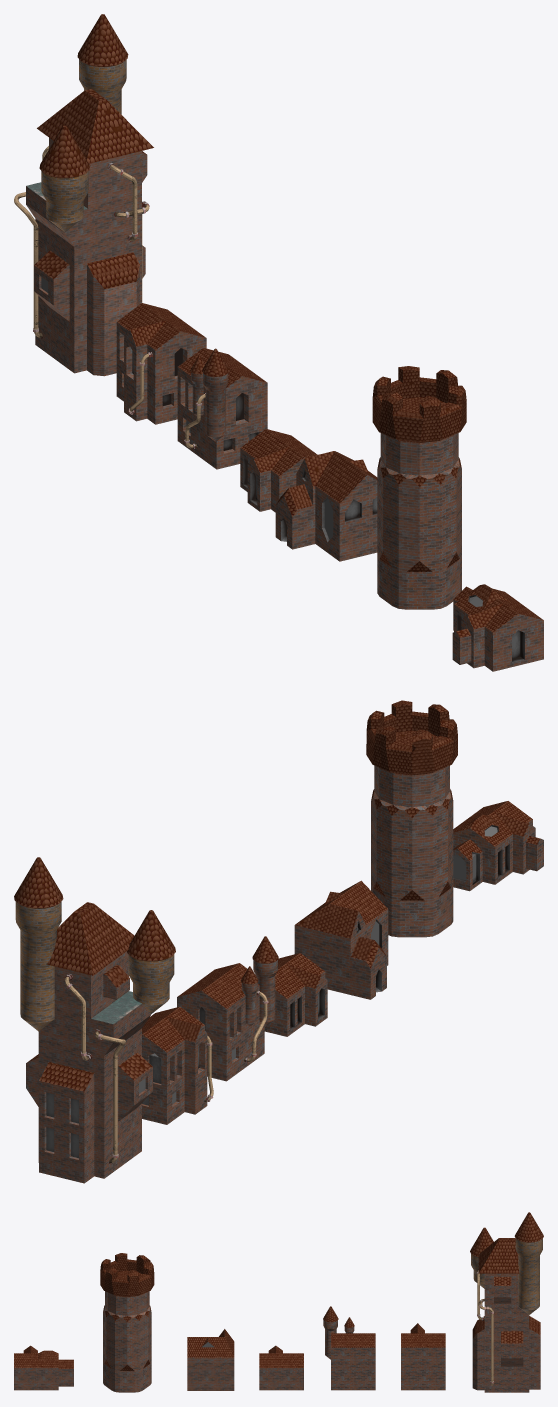
Rendered from housings.fbx.
3 renders of one model, top to bottom at view 1: azimuth 30°, elevation 25°; view 2: azimuth 150°, elevation 25°; view 3: azimuth 270°, elevation 25°, orthographic. The views are drawn at different scales.
Visible parts, largest first — view 1: Castle, Tower, House4, House2, House1, House5, House3; view 2: Castle, Tower, House2, House4, House1, House5, House3; view 3: Castle, Tower, House2, House1, House4, House5, House3.
Boxes of the visible parts, box(x1,y1,x2,y2) form: Castle: box(14, 14, 153, 376); Tower: box(372, 366, 466, 609); House4: box(275, 451, 377, 561); House2: box(177, 347, 267, 469); House1: box(116, 303, 206, 424); House5: box(452, 584, 543, 671); House3: box(240, 429, 317, 512); Castle: box(14, 857, 175, 1183); Tower: box(366, 700, 457, 937); House2: box(177, 936, 278, 1081); House4: box(294, 880, 388, 999); House1: box(142, 1006, 213, 1124); House5: box(453, 801, 543, 891); House3: box(264, 953, 327, 1036); Castle: box(470, 1212, 543, 1392); Tower: box(100, 1253, 154, 1392); House2: box(323, 1306, 375, 1390); House1: box(401, 1323, 445, 1390); House4: box(187, 1329, 234, 1390); House5: box(14, 1345, 73, 1390); House3: box(259, 1345, 303, 1390).
Bounding box in the file's own units: 360 × 888 × 2373.
